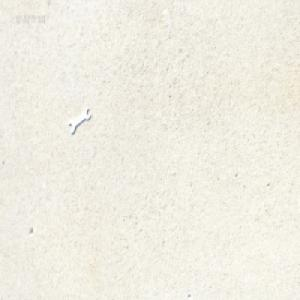Wrench: (68, 107, 91, 137)
